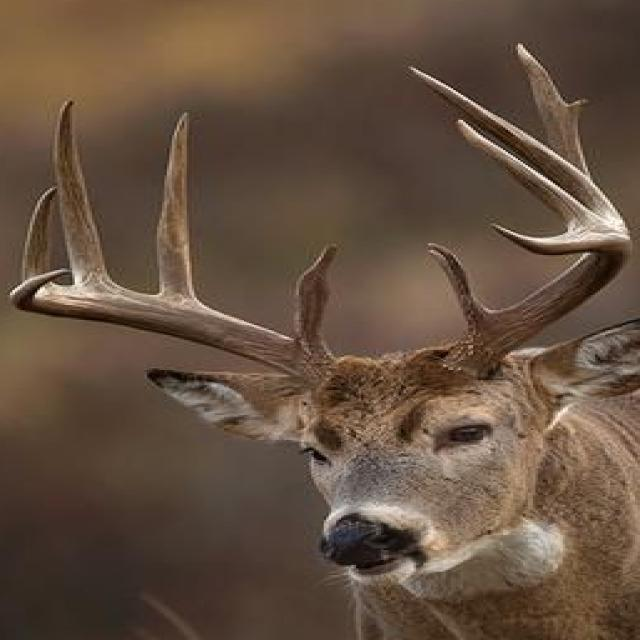L-F: (442, 217, 635, 379)
L-G1: (423, 242, 496, 334)
L-G3: (405, 65, 626, 225)
L-G4: (456, 119, 592, 234)
R-F: (5, 268, 336, 389)
R-G1: (293, 238, 344, 355)
R-G2: (152, 109, 205, 304)
R-G3: (53, 98, 124, 289)
